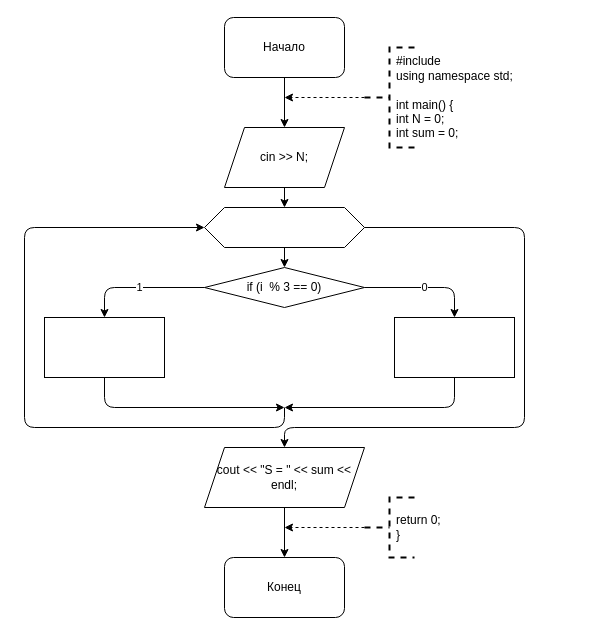
This 602x635 diagram has some shape labels left out. The centre of each missing label's shape, as x and y in pixels:
"for (int i = 0; i < N + 1; ++i)" goes at point (284, 227).
"sum += i" goes at point (454, 347).
"sum -= i" goes at point (104, 347).
